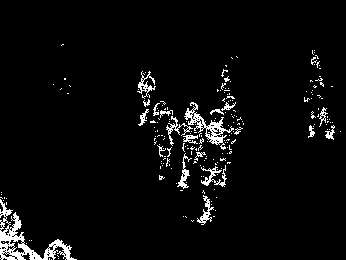person: (201, 109, 228, 226), (178, 103, 207, 184), (150, 101, 177, 179), (223, 92, 245, 138), (137, 69, 153, 127)
